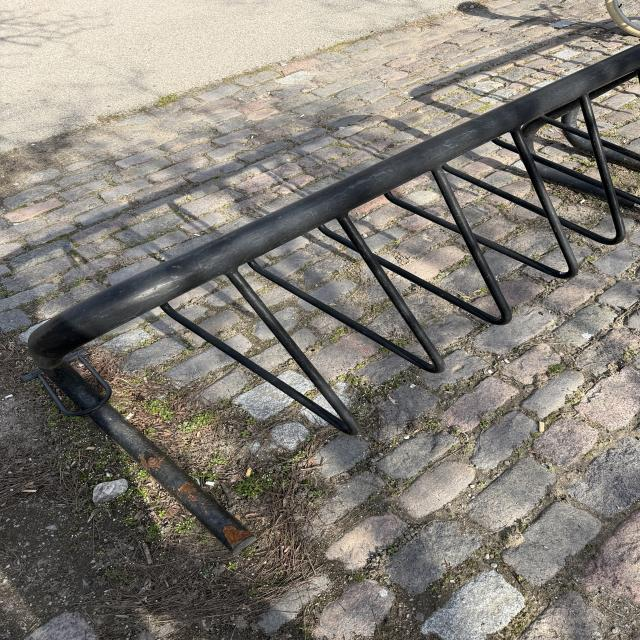Bicycle Rack: (10, 49, 640, 550)
